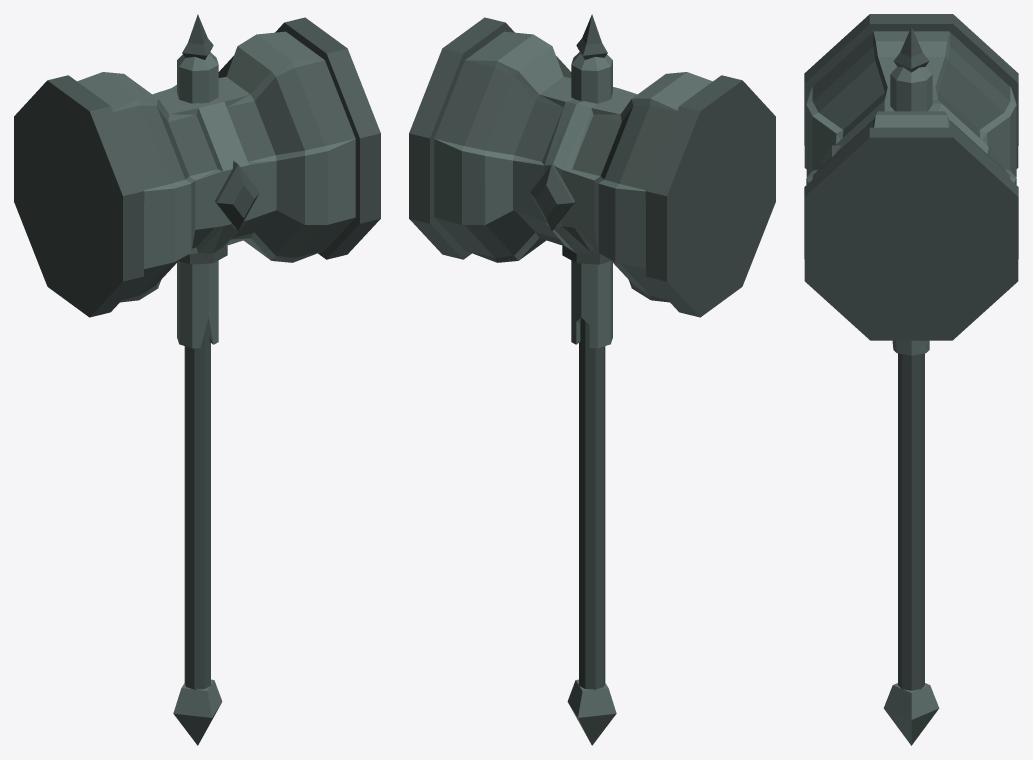
The model's file is _hammer_11.fbx.
The picture shows the model from 3 angles, left to right: view 1: azimuth 30°, elevation 25°; view 2: azimuth 150°, elevation 25°; view 3: azimuth 270°, elevation 25°; orthographic projection.
Visible parts, largest first — view 1: hammer_11; view 2: hammer_11; view 3: hammer_11.
Part boxes in pixels (left/top/right/bottom): hammer_11: left=14, top=14, right=380, bottom=745; hammer_11: left=409, top=14, right=775, bottom=745; hammer_11: left=804, top=14, right=1018, bottom=745.
Bounding box in the file's own units: 32.49 × 88.1 × 23.78.
